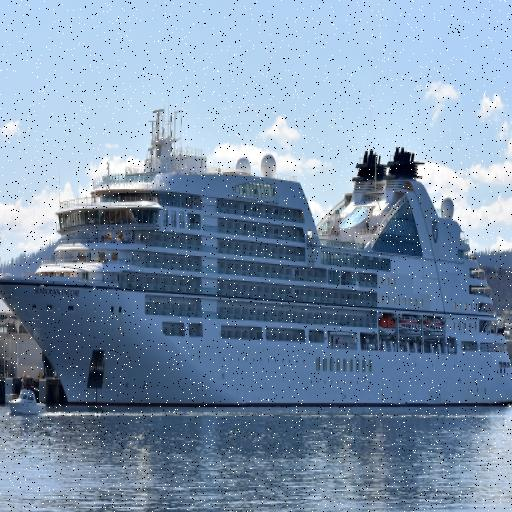cruises: (1, 111, 512, 411)
